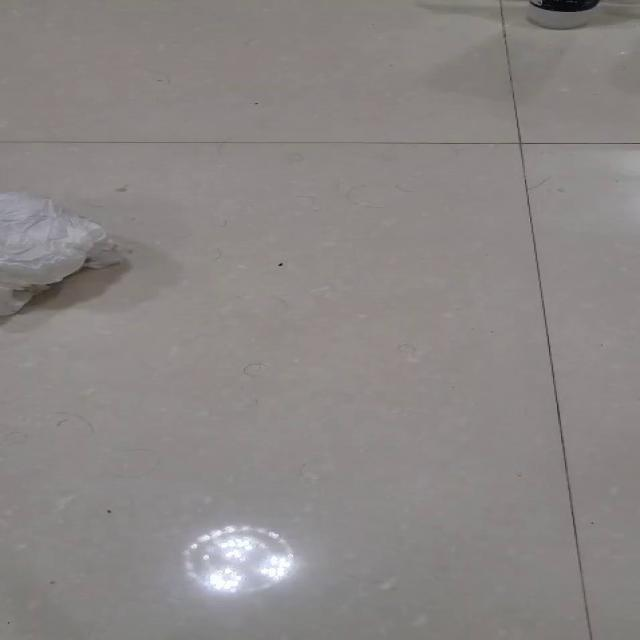plastic: (0, 191, 122, 316)
